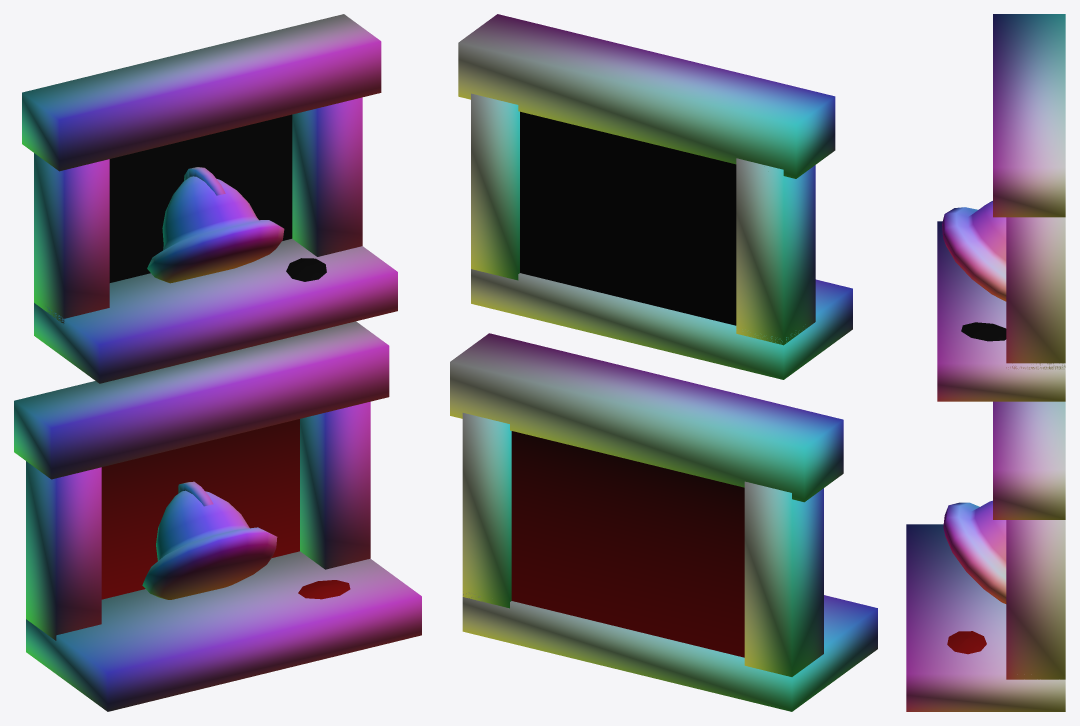
Rendered from SM_Pit_HelmNiche_B.fbx.
The picture shows the model from 3 angles, left to right: view 1: azimuth 30°, elevation 25°; view 2: azimuth 150°, elevation 25°; view 3: azimuth 270°, elevation 25°; orthographic projection. The views are drawn at different scales.
Visible parts, largest first — view 1: SM_Pit_HelmNiche_B; view 2: SM_Pit_HelmNiche_B; view 3: SM_Pit_HelmNiche_B.
Boxes of the visible parts, x1,y1,x2,y2 form: SM_Pit_HelmNiche_B: (14,14,421,711); SM_Pit_HelmNiche_B: (450,14,877,711); SM_Pit_HelmNiche_B: (906,14,1065,711).
Bounding box in the file's own units: 0.8544 × 1.35 × 0.3584.
